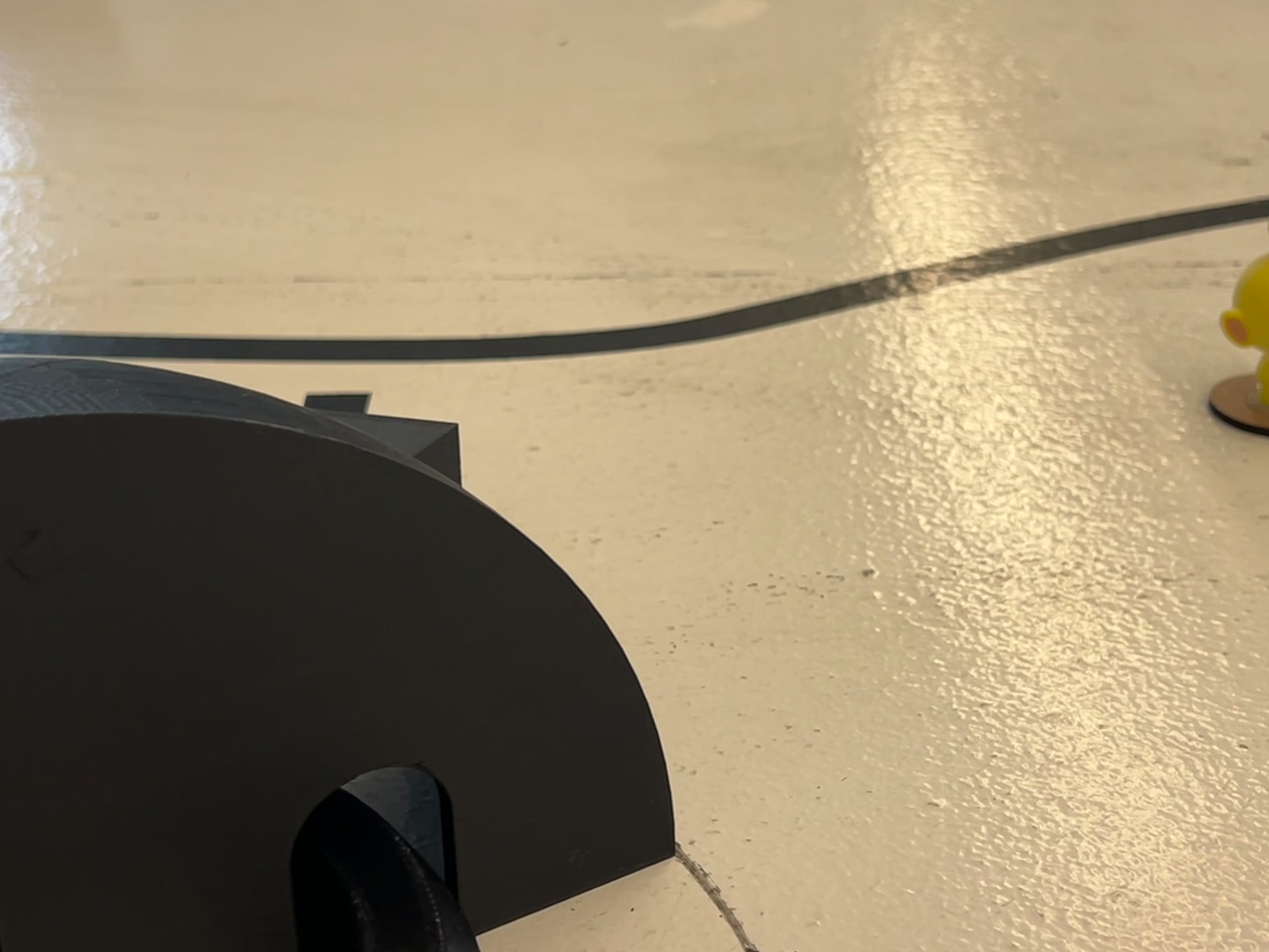teletubby: (1219, 255, 1268, 413)
